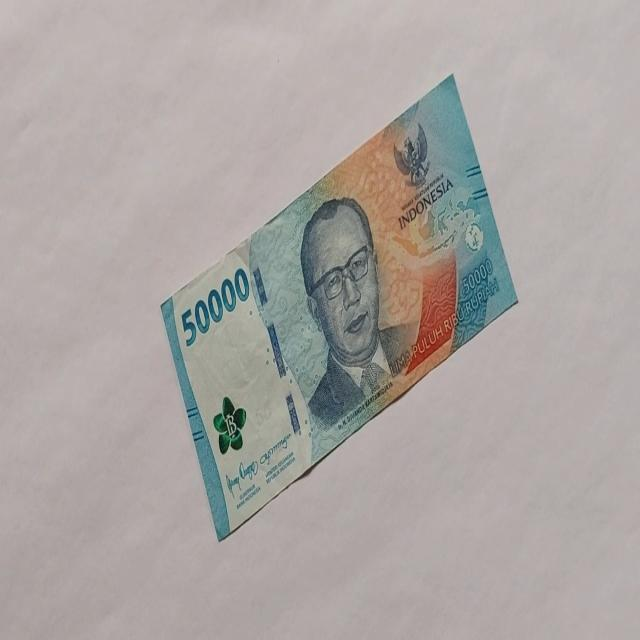lima puluh ribu rupiah: (159, 71, 519, 542), (298, 194, 412, 428), (180, 266, 250, 348)
